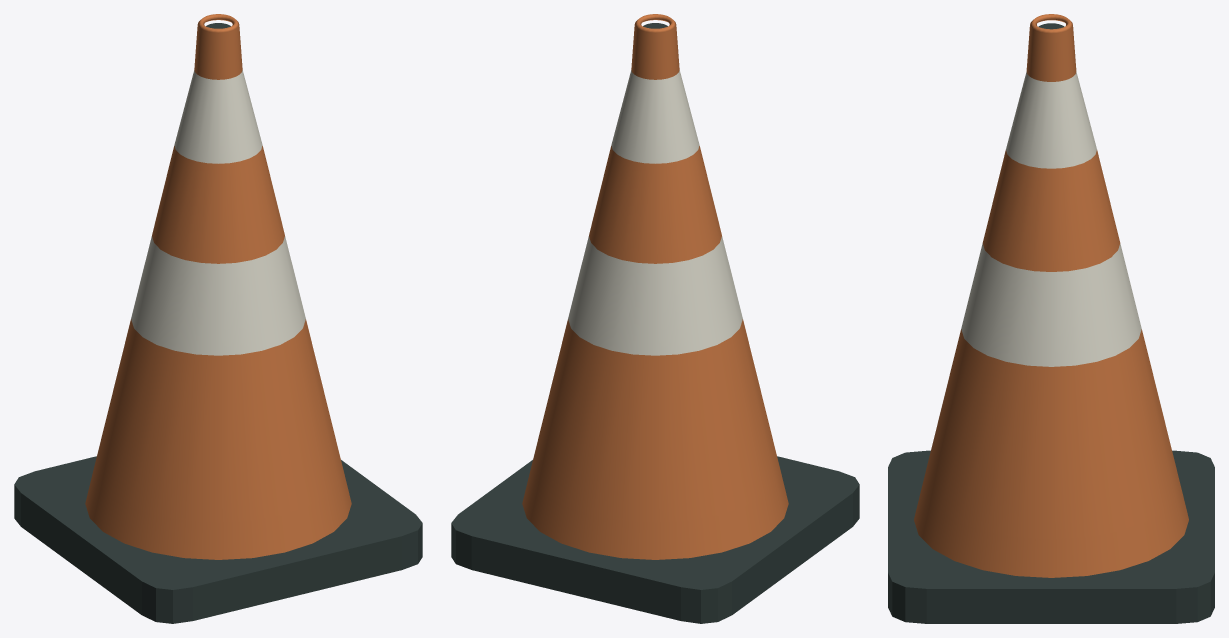
The picture shows the model from 3 angles, left to right: view 1: azimuth 30°, elevation 25°; view 2: azimuth 150°, elevation 25°; view 3: azimuth 270°, elevation 25°; orthographic projection. The views are drawn at different scales.
Parts seen in each view (by area): view 1: 안전 고깔; view 2: 안전 고깔; view 3: 안전 고깔.
Boxes of the visible parts, <box> form: 안전 고깔: <box>14,14,422,623</box>; 안전 고깔: <box>451,14,859,623</box>; 안전 고깔: <box>888,14,1214,623</box>.
Size of the model in its own units: 0.38 by 0.684 by 0.38.
